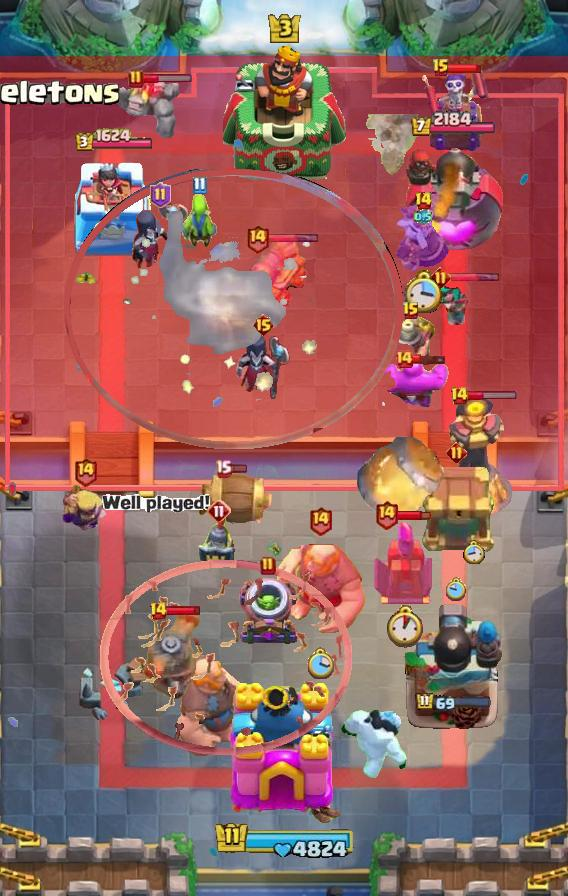arrows: (61, 484, 109, 531)
balloon: (273, 533, 367, 635), (172, 650, 246, 758)
bandit: (385, 313, 437, 369)
bomb: (417, 466, 495, 554)
clock: (210, 820, 358, 862)
dark-prince: (125, 615, 215, 701)
dirt: (354, 435, 444, 523)
electro-dragon: (435, 395, 513, 521)
electro-spirit: (414, 209, 432, 225)
elixir: (386, 605, 427, 648), (405, 271, 444, 314), (306, 647, 334, 681), (463, 540, 485, 564), (446, 577, 467, 601)
elixir-collector: (394, 203, 452, 273)
emote: (267, 232, 319, 244), (448, 273, 500, 284), (143, 73, 194, 84), (466, 390, 517, 401), (411, 353, 447, 365), (396, 509, 431, 521), (166, 605, 203, 616), (448, 63, 482, 74), (228, 462, 248, 473)
fisherman: (365, 114, 423, 177)
goblin-cage: (236, 577, 300, 647)
ice-spirit-evolution-symbol: (373, 519, 437, 607)
king-tower: (222, 680, 346, 826), (223, 43, 345, 181)
princess: (197, 512, 241, 572)
queen-tower: (69, 158, 159, 256)
rage: (339, 708, 411, 780)
rascal-boy: (130, 199, 190, 273), (234, 332, 292, 402)
royal-ghost: (65, 169, 404, 449)
royal-giant-evolution: (241, 237, 309, 311)
selected: (411, 111, 498, 138), (74, 127, 154, 153), (416, 691, 493, 713)
skeleton-barrel: (100, 558, 352, 756)
skeleton-king-bar: (422, 67, 490, 153)
text: (73, 457, 98, 488), (373, 499, 398, 530), (307, 504, 332, 535), (245, 223, 270, 253), (207, 499, 231, 523), (253, 313, 276, 337), (149, 182, 170, 208), (430, 267, 451, 289), (446, 441, 467, 462), (414, 191, 434, 211), (394, 349, 414, 369), (148, 601, 168, 621), (450, 386, 469, 406), (432, 58, 450, 78), (402, 301, 420, 321), (215, 458, 233, 477), (128, 69, 144, 89), (260, 556, 276, 576), (193, 176, 208, 195)
the-log: (196, 470, 276, 530)
tornado: (381, 357, 449, 409)
tower-bar: (403, 601, 503, 731), (404, 138, 505, 256)
valkyrie-evolution: (114, 77, 180, 139)
witch: (437, 278, 469, 326)
zap: (180, 191, 218, 249)
